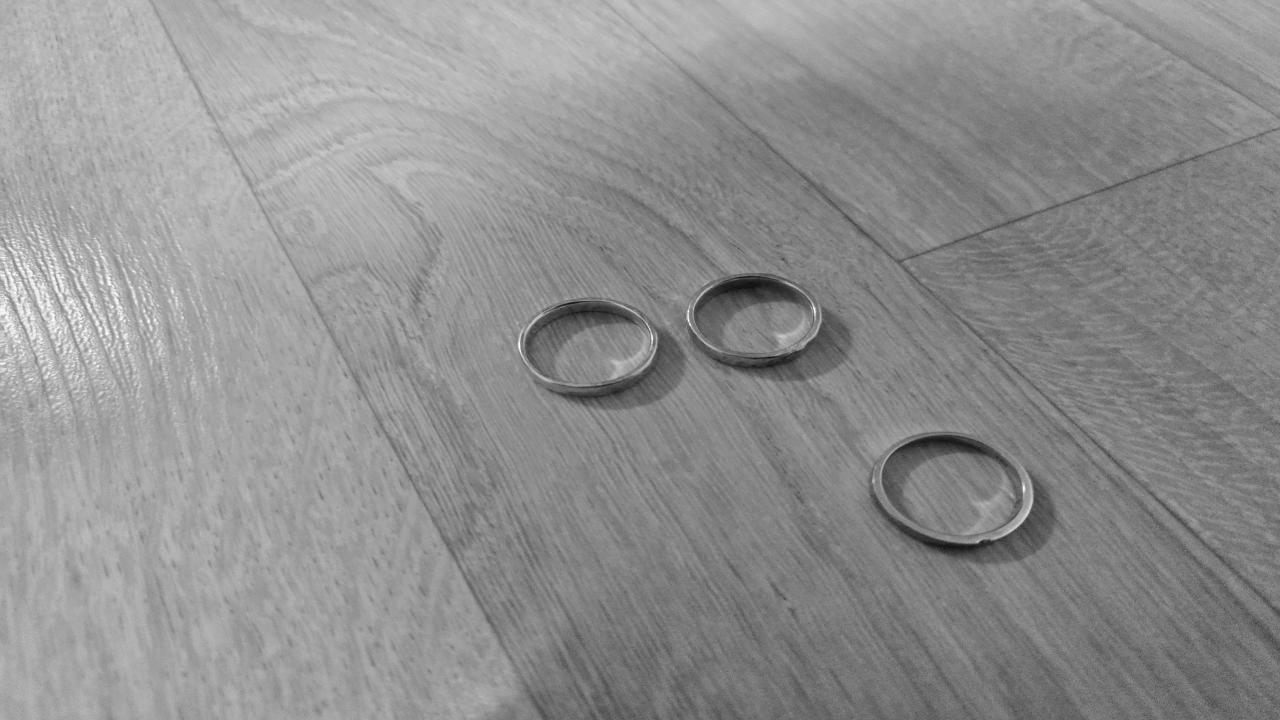ring: (869, 430, 1034, 546), (517, 297, 664, 397), (684, 273, 826, 368)
